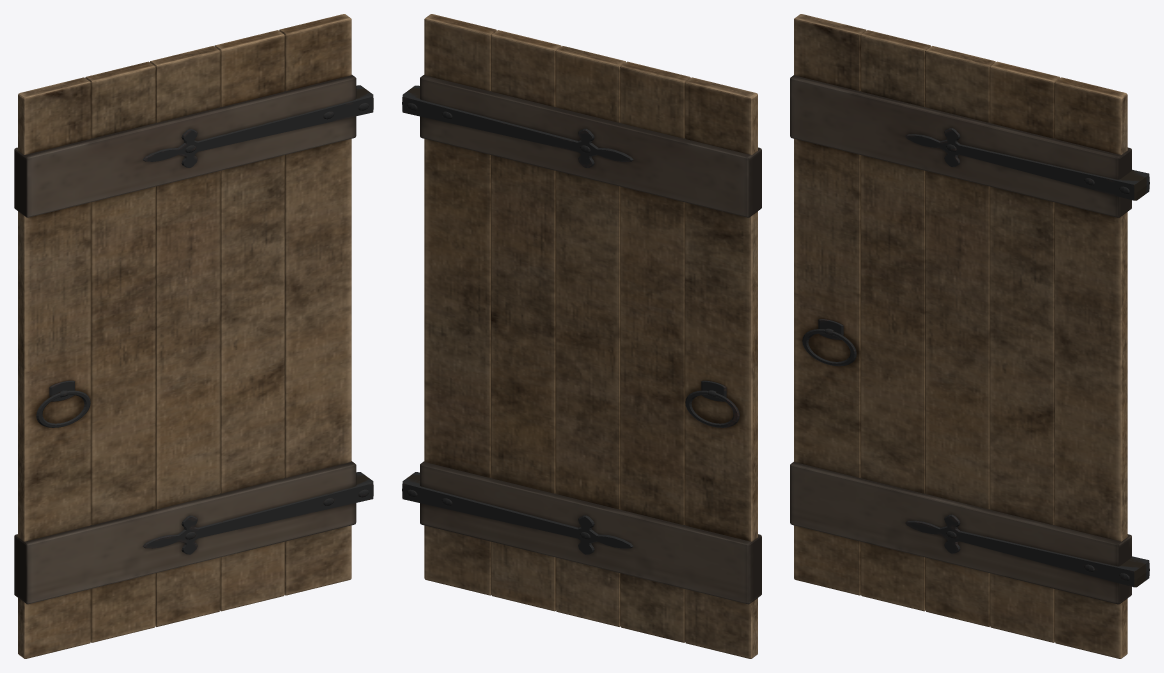
Rendered from BW_Inn01_MainDoor.fbx.
3 views of the same model, side by side, from view 1: azimuth 30°, elevation 25°; view 2: azimuth 150°, elevation 25°; view 3: azimuth 330°, elevation 25° (orthographic).
Parts seen in each view (by area): view 1: BW_Inn01_MainDoor; view 2: BW_Inn01_MainDoor; view 3: BW_Inn01_MainDoor.
Part boxes in pixels (x1,y1,x2,y2): BW_Inn01_MainDoor: [14, 14, 373, 658]; BW_Inn01_MainDoor: [402, 14, 761, 658]; BW_Inn01_MainDoor: [790, 14, 1149, 658].
Size of the model in its own units: 1.57 by 2.43 by 0.1318.
